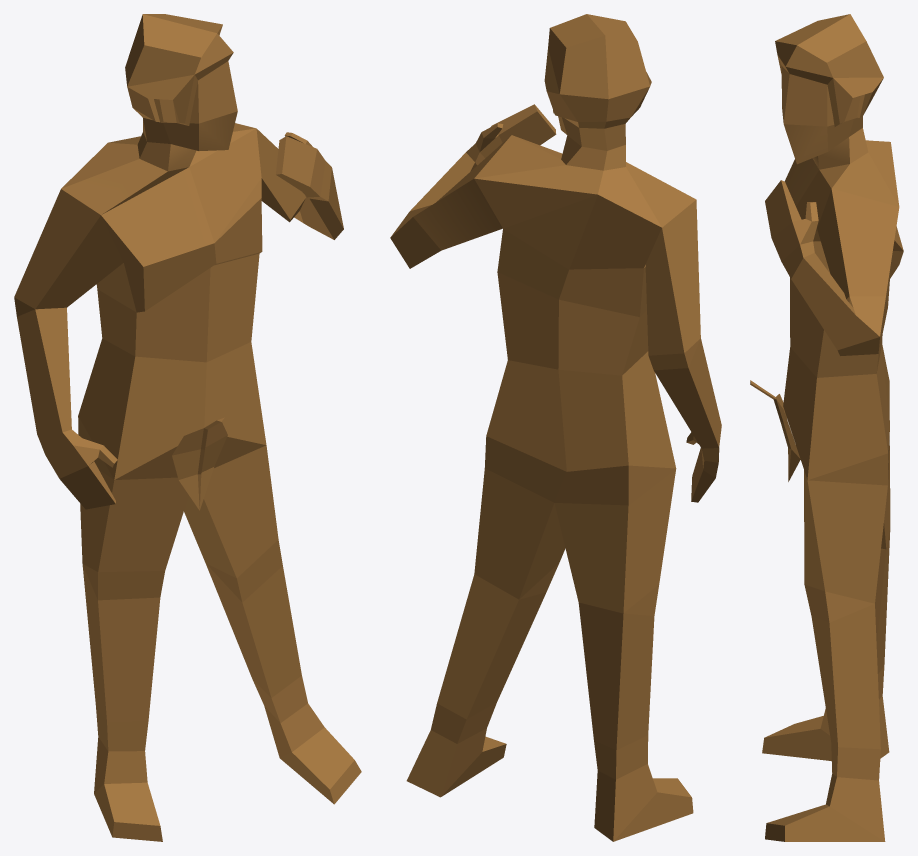
Rendered from SM_Statue_Big_David_Empire.fbx.
The picture shows the model from 3 angles, left to right: view 1: azimuth 30°, elevation 25°; view 2: azimuth 150°, elevation 25°; view 3: azimuth 270°, elevation 25°; orthographic projection. The views are drawn at different scales.
Parts seen in each view (by area): view 1: SM_Statue_Davidig_David_Empire; view 2: SM_Statue_Davidig_David_Empire; view 3: SM_Statue_Davidig_David_Empire.
Boxes of the visible parts, x1,y1,x2,y2 form: SM_Statue_Davidig_David_Empire: (14, 14, 361, 841); SM_Statue_Davidig_David_Empire: (390, 14, 721, 841); SM_Statue_Davidig_David_Empire: (750, 14, 903, 841).
Bounding box in the file's own units: 2.95 × 7.21 × 1.33.
